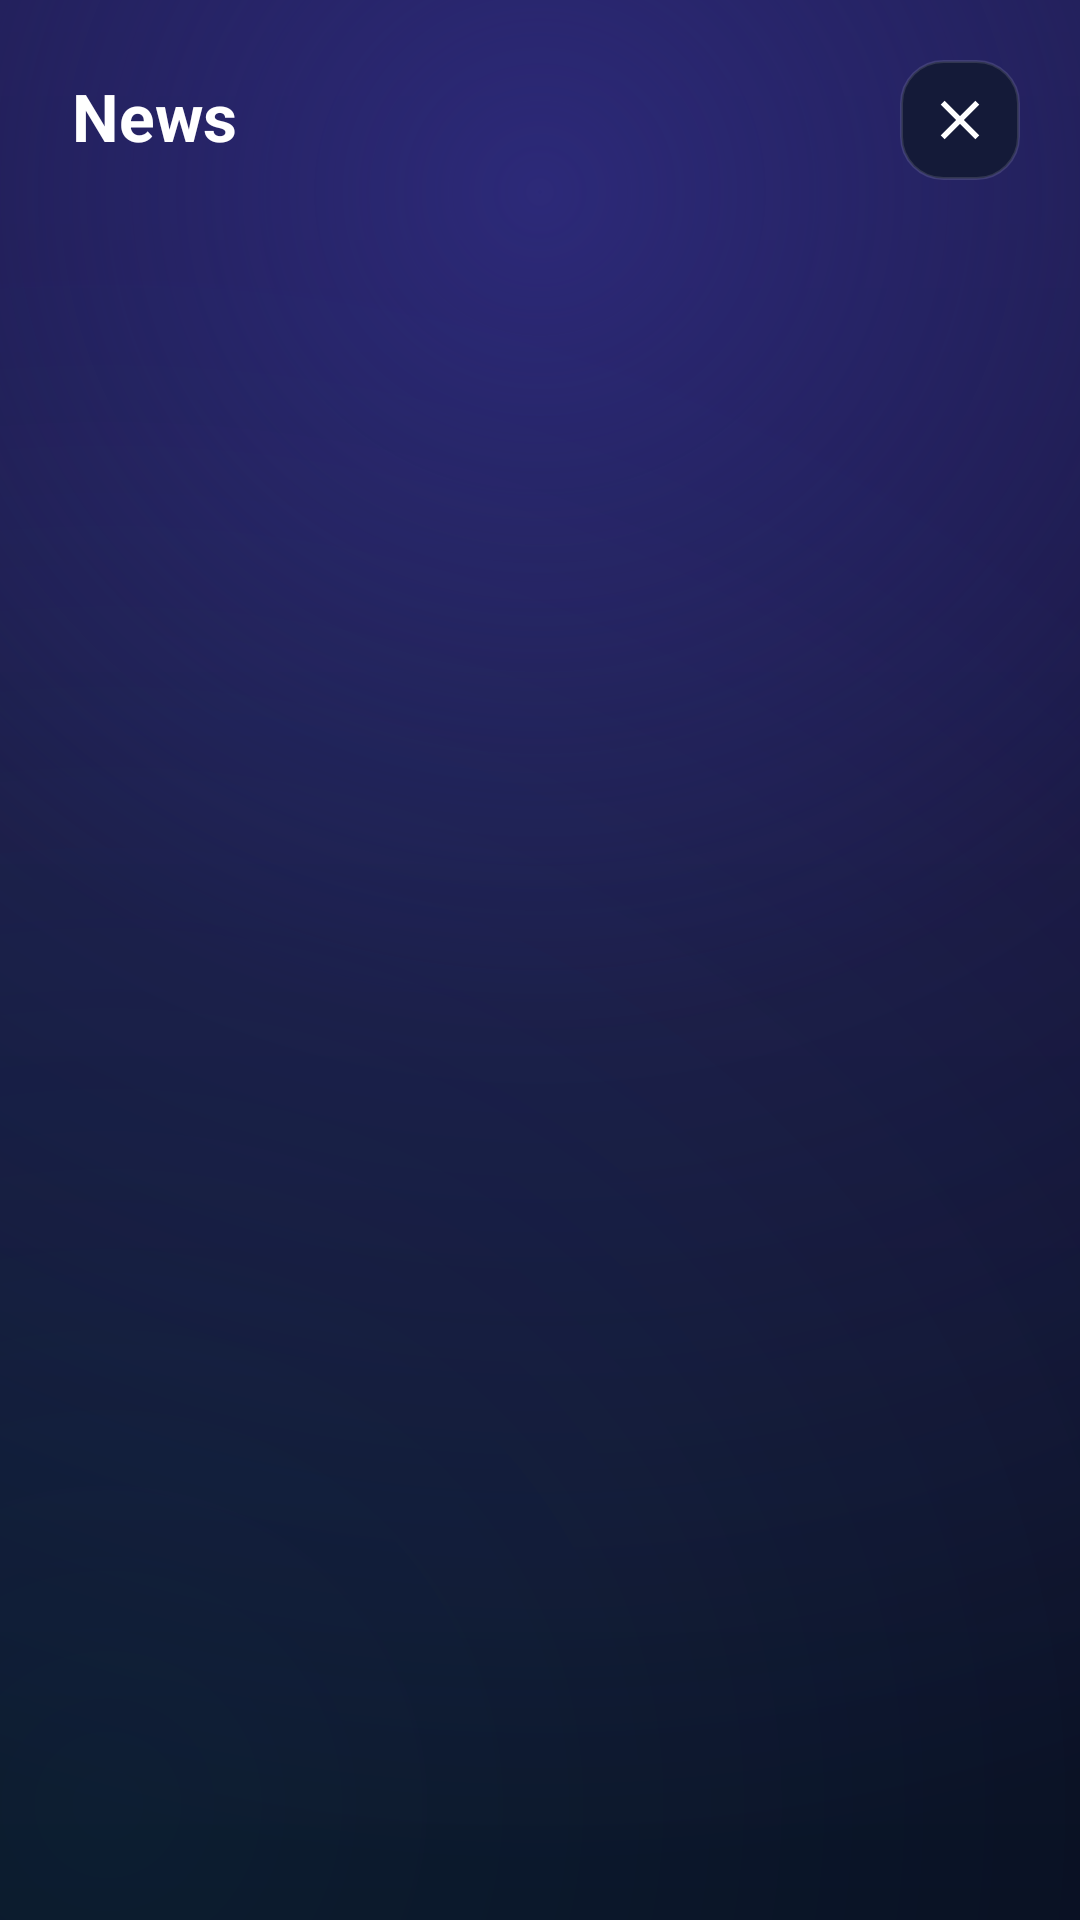

Icon bounding boxes for this 1080w x 1920h phone screenshot, format (x1, y1, x2, y2):
Close: (900, 60, 1020, 180)
